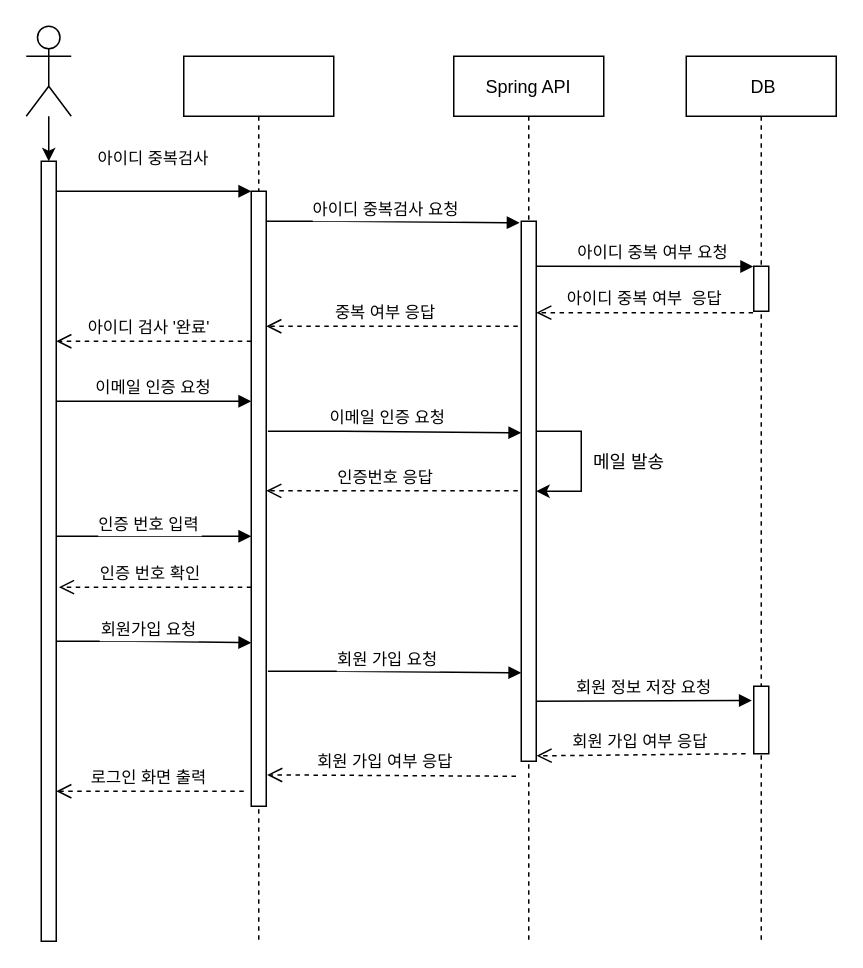
Some shapes in this 863 by 968 pixel diagram are drawn without their labels. The shapes that lost their labels are listed below. From the top down, each one's box as (x1, y1, x2, y2) in pixels, then its label:
(25, 25, 71, 116): Actor
(182, 55, 334, 941): Frontend Client
